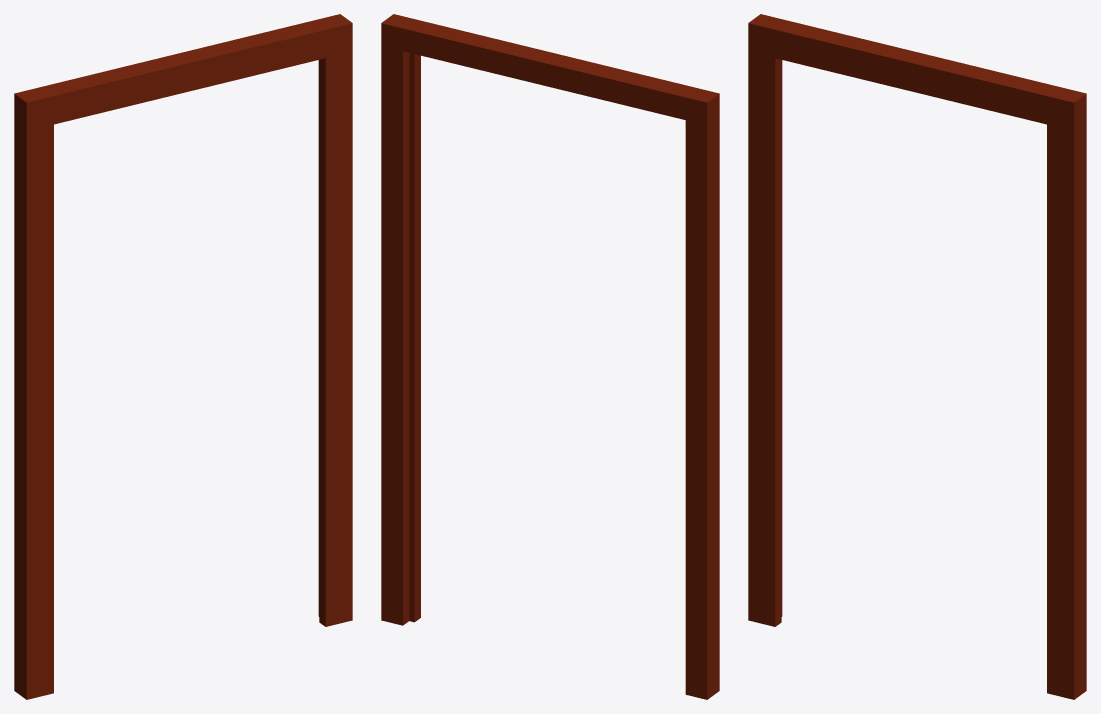
Rendered from DoorFrameMesh.fbx.
The picture shows the model from 3 angles, left to right: view 1: azimuth 30°, elevation 25°; view 2: azimuth 150°, elevation 25°; view 3: azimuth 330°, elevation 25°; orthographic projection.
Parts seen in each view (by area): view 1: DoorFrame; view 2: DoorFrame; view 3: DoorFrame.
Boxes of the visible parts, x1,y1,x2,y2 form: DoorFrame: (14, 14, 352, 699); DoorFrame: (381, 14, 719, 699); DoorFrame: (748, 14, 1086, 699).
Size of the model in its own units: 120 by 210 by 8.
